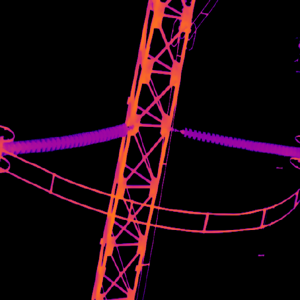insulator: (1, 121, 128, 155), (180, 125, 300, 160)
